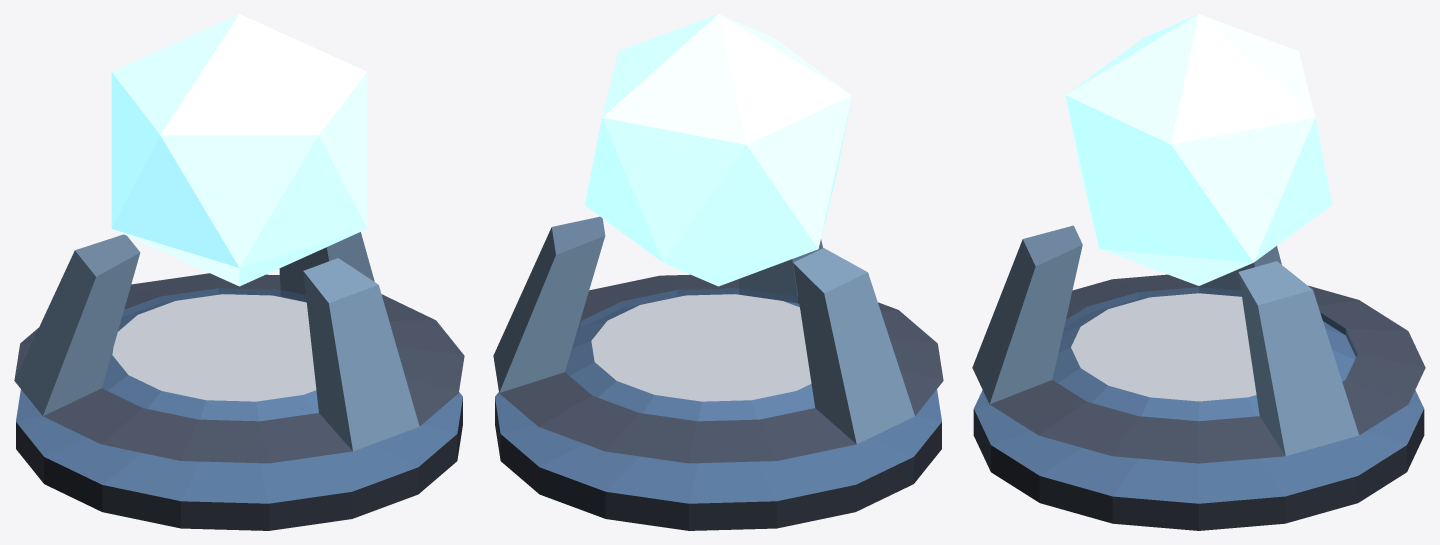
Rendered from N.O.R.D Labs.fbx.
3 views of the same model, side by side, from view 1: azimuth 30°, elevation 25°; view 2: azimuth 150°, elevation 25°; view 3: azimuth 270°, elevation 25° (orthographic).
Parts seen in each view (by area): view 1: Laboratory, Laboratory Crystal; view 2: Laboratory, Laboratory Crystal; view 3: Laboratory, Laboratory Crystal.
Part boxes in pixels (box(x1,y1,x2,y2)): Laboratory: box(14, 232, 464, 530); Laboratory Crystal: box(111, 14, 367, 286); Laboratory: box(493, 216, 943, 530); Laboratory Crystal: box(585, 14, 851, 286); Laboratory: box(972, 225, 1425, 530); Laboratory Crystal: box(1065, 14, 1332, 285).
Size of the model in its own units: 1.51 by 1.55 by 1.51.
